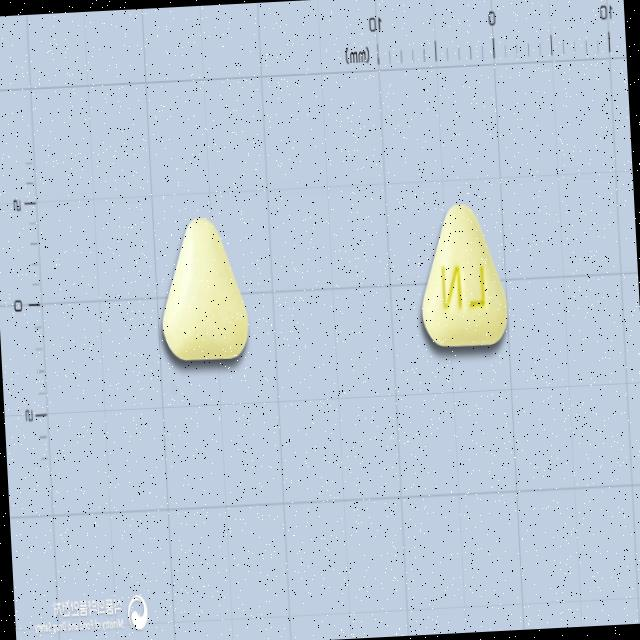Leflu: (416, 199, 510, 351), (156, 214, 250, 364)
